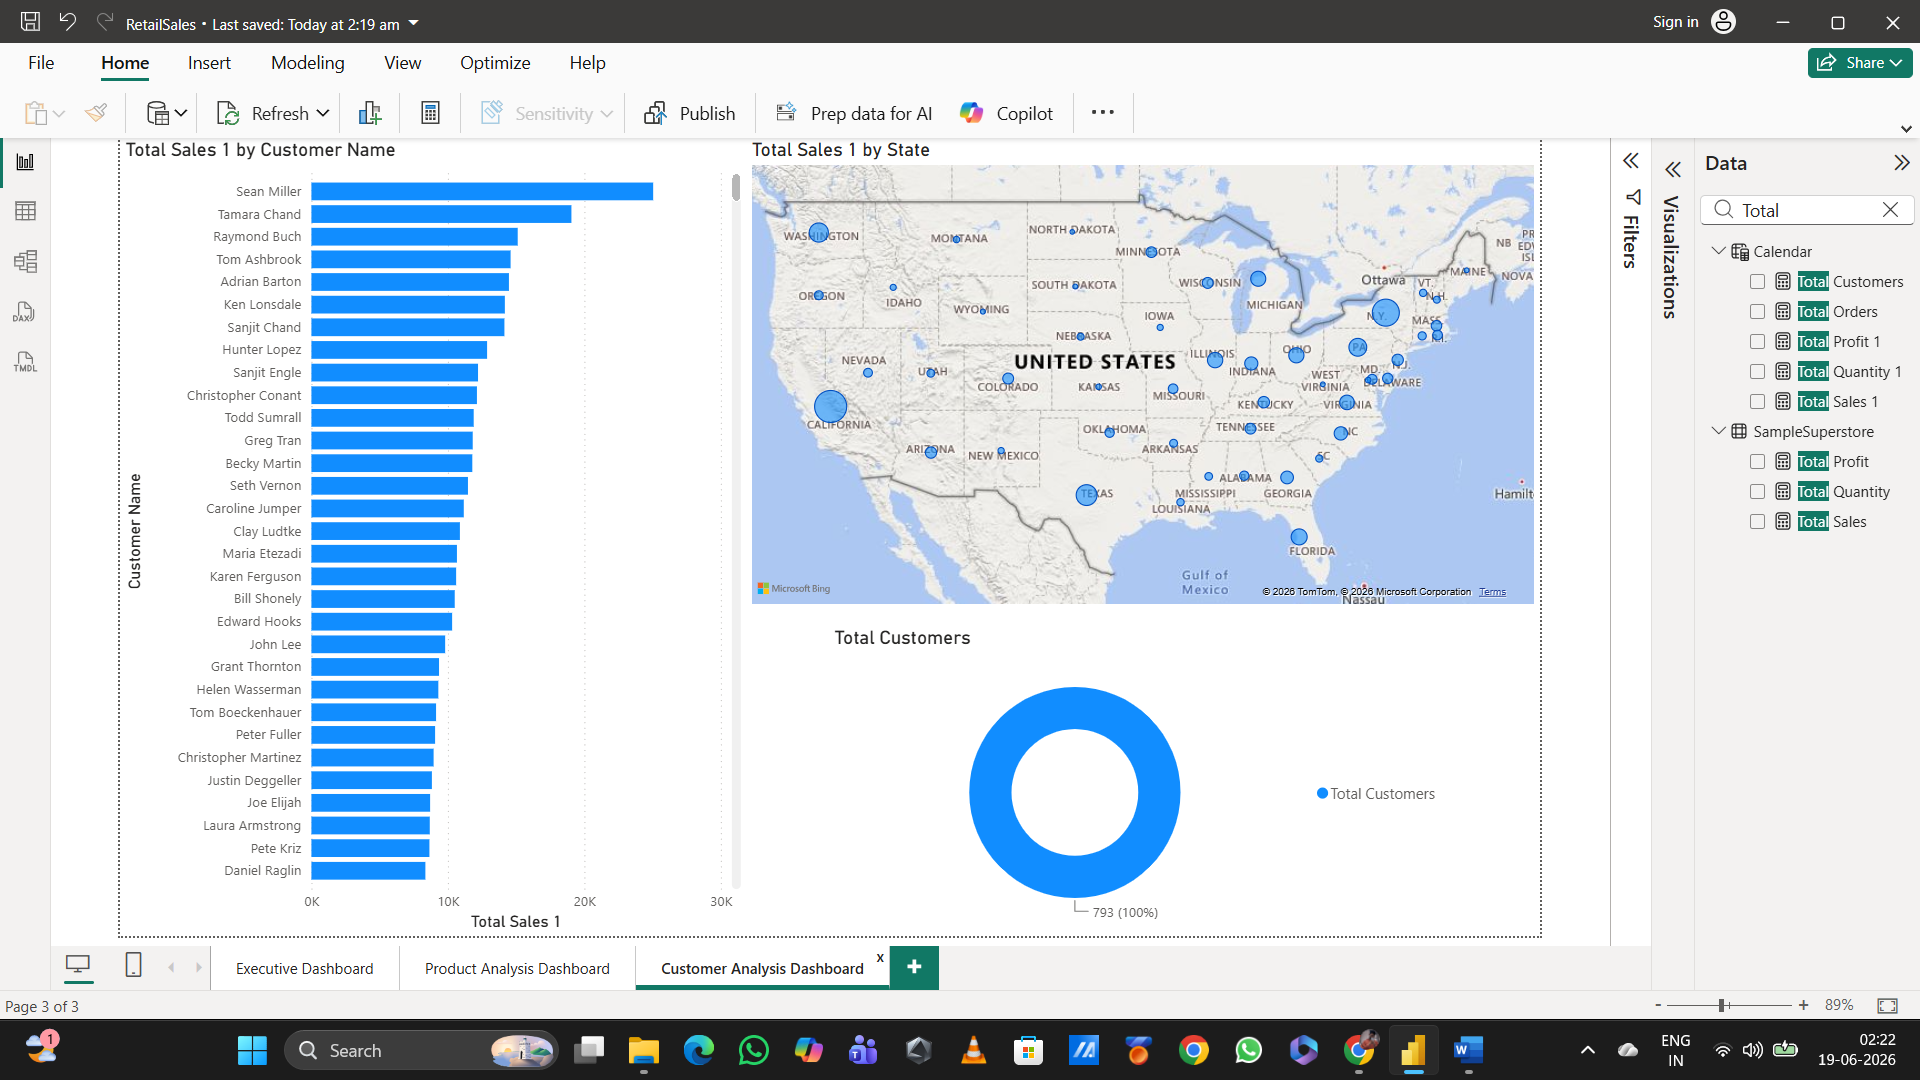

Layout of this report page (visuals, bound fields, positions):
{"tool":"powerbi","page":{"name":"Customer Analysis Dashboard","canvas":[1280,720],"ordinal":2},"visuals":[{"type":"barChart","fields":{"Category":["SampleSuperstore.Customer Name"],"Y":["Calendar.Total Sales 1"]},"box":[0,0,564.9,720.2],"z":0},{"type":"donutChart","fields":{"Y":["Calendar.Total Customers"]},"box":[639.5,440.2,561.3,280],"z":1000},{"type":"map","fields":{"Category":["SampleSuperstore.State"],"Size":["Calendar.Total Sales 1"]},"box":[564.9,0,715.4,425.5],"z":2000}]}

Visuals, with their boxes on the page's 1280x720 design canvas (x1, y1, x2, y2). These are canvas units, not pixel positions in the 1920x1080 screenshot, which may show the page scaled, cropped or inside an application window:
barChart - SampleSuperstore.Customer Name x Calendar.Total Sales 1: {"left": 0, "top": 0, "right": 565, "bottom": 720}
donutChart - Calendar.Total Customers: {"left": 640, "top": 440, "right": 1201, "bottom": 720}
map - SampleSuperstore.State x Calendar.Total Sales 1: {"left": 565, "top": 0, "right": 1280, "bottom": 426}
